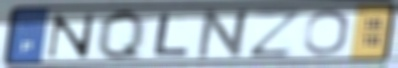L: (150, 12, 193, 57)
N: (194, 8, 256, 60), (44, 12, 98, 60)
O: (301, 8, 351, 57)
Q: (96, 8, 147, 63)
Z: (246, 7, 304, 59)
